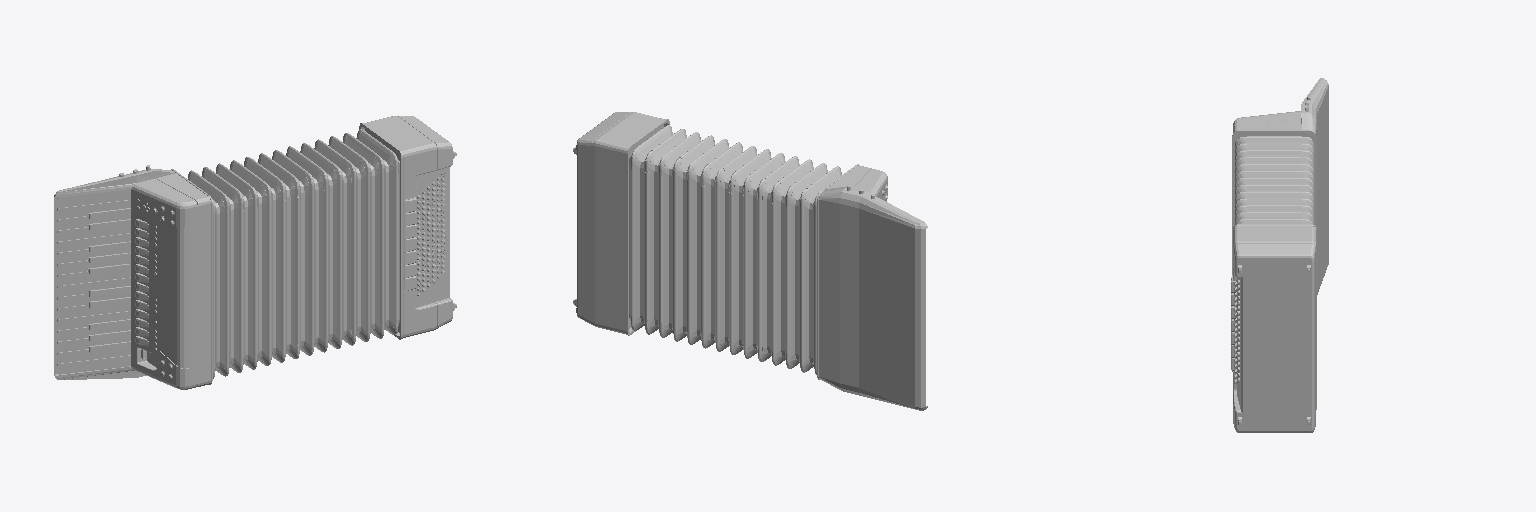
Rendered from instruments.obj.
The picture shows the model from 3 angles: view 1: azimuth 30°, elevation 25°; view 2: azimuth 150°, elevation 25°; view 3: azimuth 270°, elevation 25°; orthographic projection.
Visible parts, largest first — view 1: 0, Ajay_Test_ACCORDION_[number redacted]:Accordion_Front_Ajay_Test_ACCORDIO, Accordion_Back1_Ajay_Test_ACCORDION_[number redacted]:blinn2_0, Ajay_Test_ACCORDION_[number redacted]:polySurface16_Ajay_Test_ACCORDION_, Ajay_Test_ACCORDION_[number redacted]:polySurface18_Ajay_Test_ACCORDION_, Ajay_Test_ACCORDION_[number redacted]:polySurface9_Ajay_Test_ACCORDION_0, Ajay_Test_ACCORDION_[number redacted]:polySurface12_Ajay_Test_ACCORDION_, Ajay_Test_ACCORDION_[number redacted]:polySurface17_Ajay_Test_ACCORDION_, Ajay_Test_ACCORDION_[number redacted]:polySurface8_Ajay_Test_ACCORDION_0, Ajay_Test_ACCORDION_[number redacted]:polySurface6_Ajay_Test_ACCORDION_0, Ajay_Test_ACCORDION_[number redacted]:polySurface5_Ajay_Test_ACCORDION_0, Ajay_Test_ACCORDION_[number redacted]:polySurface11_Ajay_Test_ACCORDION_ (+7 smaller); view 2: 0, Ajay_Test_ACCORDION_[number redacted]:Accordion_Front_Ajay_Test_ACCORDIO, Accordion_Back1_Ajay_Test_ACCORDION_[number redacted]:blinn2_0; view 3: Accordion_Back1_Ajay_Test_ACCORDION_[number redacted]:blinn2_0, 0, Ajay_Test_ACCORDION_[number redacted]:Accordion_Front_Ajay_Test_ACCORDIO.
Boxes of the visible parts, x1,y1,x2,y2 form: 0: [188, 129, 399, 378]; Ajay_Test_ACCORDION_[number redacted]:Accordion_Front_Ajay_Test_ACCORDIO: [54, 169, 212, 389]; Accordion_Back1_Ajay_Test_ACCORDION_[number redacted]:blinn2_0: [359, 116, 456, 339]; Ajay_Test_ACCORDION_[number redacted]:polySurface16_Ajay_Test_ACCORDION_: [57, 355, 130, 374]; Ajay_Test_ACCORDION_[number redacted]:polySurface18_Ajay_Test_ACCORDION_: [57, 189, 130, 207]; Ajay_Test_ACCORDION_[number redacted]:polySurface9_Ajay_Test_ACCORDION_0: [57, 277, 130, 296]; Ajay_Test_ACCORDION_[number redacted]:polySurface12_Ajay_Test_ACCORDION_: [57, 311, 130, 329]; Ajay_Test_ACCORDION_[number redacted]:polySurface17_Ajay_Test_ACCORDION_: [57, 200, 130, 218]; Ajay_Test_ACCORDION_[number redacted]:polySurface8_Ajay_Test_ACCORDION_0: [57, 233, 130, 252]; Ajay_Test_ACCORDION_[number redacted]:polySurface6_Ajay_Test_ACCORDION_0: [57, 270, 130, 285]; Ajay_Test_ACCORDION_[number redacted]:polySurface5_Ajay_Test_ACCORDION_0: [57, 225, 130, 240]; Ajay_Test_ACCORDION_[number redacted]:polySurface11_Ajay_Test_ACCORDION_: [57, 303, 130, 318]; 0: [629, 125, 841, 374]; Ajay_Test_ACCORDION_[number redacted]:Accordion_Front_Ajay_Test_ACCORDIO: [817, 164, 927, 410]; Accordion_Back1_Ajay_Test_ACCORDION_[number redacted]:blinn2_0: [573, 112, 669, 335]; Accordion_Back1_Ajay_Test_ACCORDION_[number redacted]:blinn2_0: [1231, 224, 1316, 432]; 0: [1235, 136, 1313, 224]; Ajay_Test_ACCORDION_[number redacted]:Accordion_Front_Ajay_Test_ACCORDIO: [1232, 78, 1328, 294].
Bounding box in the file's own units: 0.2708 × 0.1482 × 0.0636.